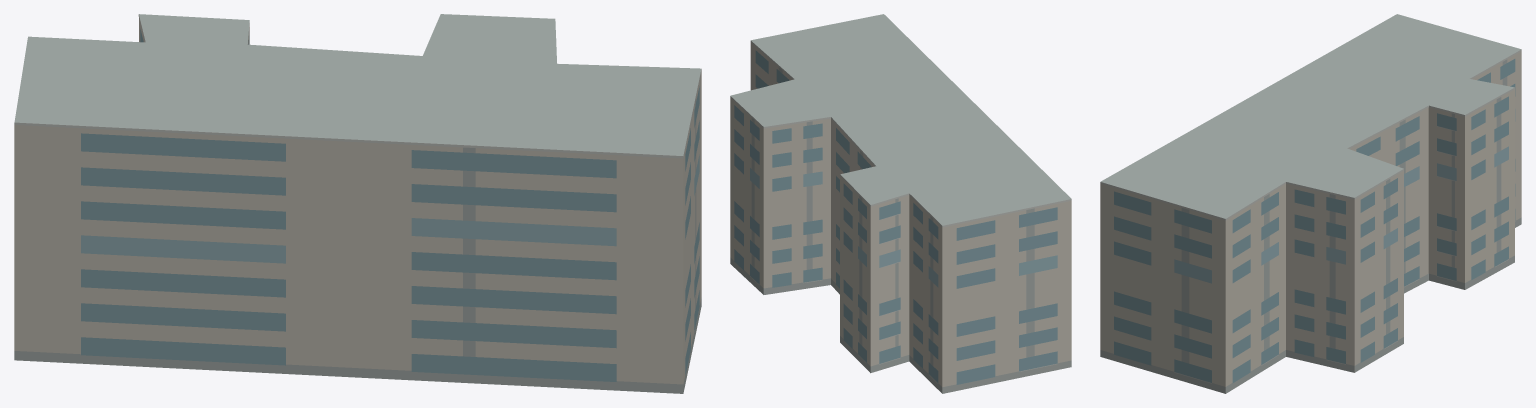
The model's file is survey-upis-32488276.glb.
3 renders of one model, left to right at view 1: azimuth 30°, elevation 25°; view 2: azimuth 150°, elevation 25°; view 3: azimuth 270°, elevation 25°, orthographic. The views are drawn at different scales.
Parts seen in each view (by area): view 1: survey-upis-32488276.tmp; view 2: survey-upis-32488276.tmp; view 3: survey-upis-32488276.tmp.
Boxes of the visible parts, x1=… form: survey-upis-32488276.tmp: x1=14, y1=14, x2=701, y2=393; survey-upis-32488276.tmp: x1=730, y1=14, x2=1071, y2=393; survey-upis-32488276.tmp: x1=1100, y1=14, x2=1521, y2=393.
Size of the model in its own units: 60.79 by 24.2 by 52.83.
